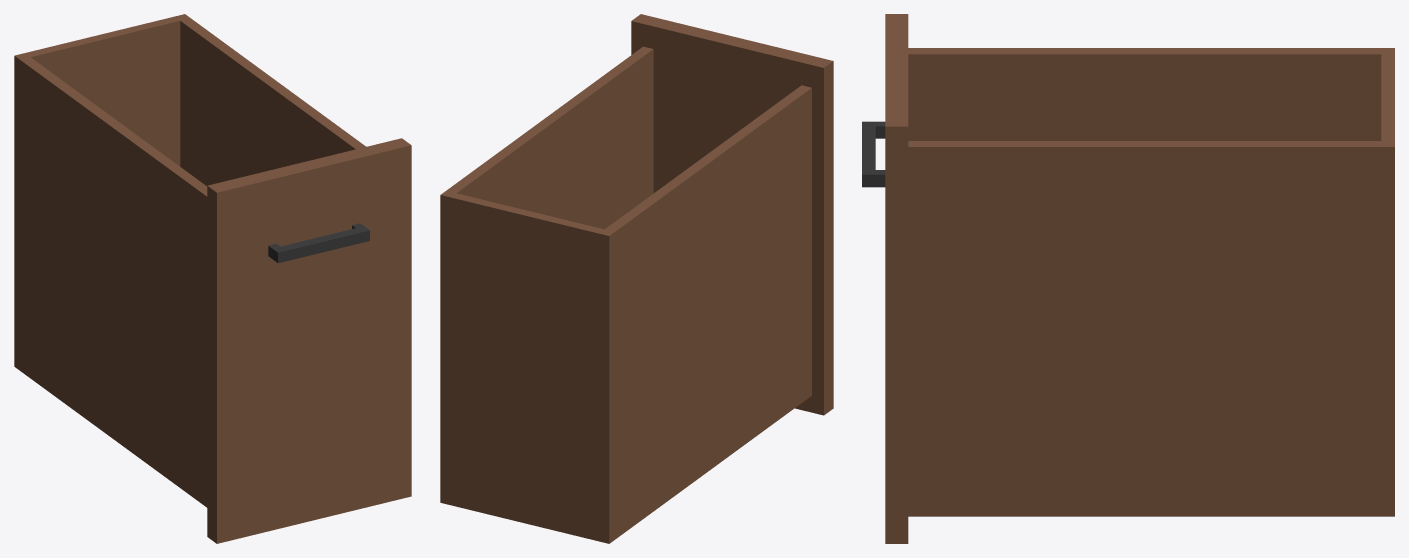
Rendered from Door1_C2_08.fbx.
3 views of the same model, side by side, from view 1: azimuth 30°, elevation 25°; view 2: azimuth 150°, elevation 25°; view 3: azimuth 270°, elevation 25° (orthographic). The views are drawn at different scales.
Parts seen in each view (by area): view 1: Door1_C2_08; view 2: Door1_C2_08; view 3: Door1_C2_08.
Part boxes in pixels (x1,y1,x2,y2): Door1_C2_08: (14, 14, 411, 543); Door1_C2_08: (440, 14, 833, 543); Door1_C2_08: (862, 14, 1394, 543).
Size of the model in its own units: 29 by 50 by 57.89.
